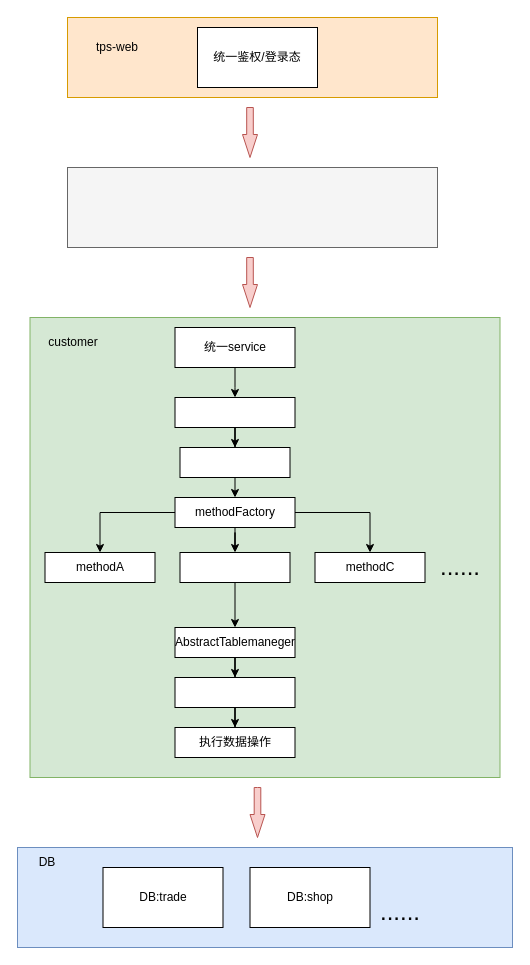
Image size: 530x965. Some labels were removed from this diagram. The shapes that lost their labels are listed below. From the top down, each one's centre as x and y in pixels, then its label:
At (x=252, y=207): "dubbo".
At (x=234, y=412): "接口权限管理".
At (x=234, y=462): "操作日志记录".
At (x=234, y=567): "methodB".
At (x=234, y=692): "数据操作日志记录".
